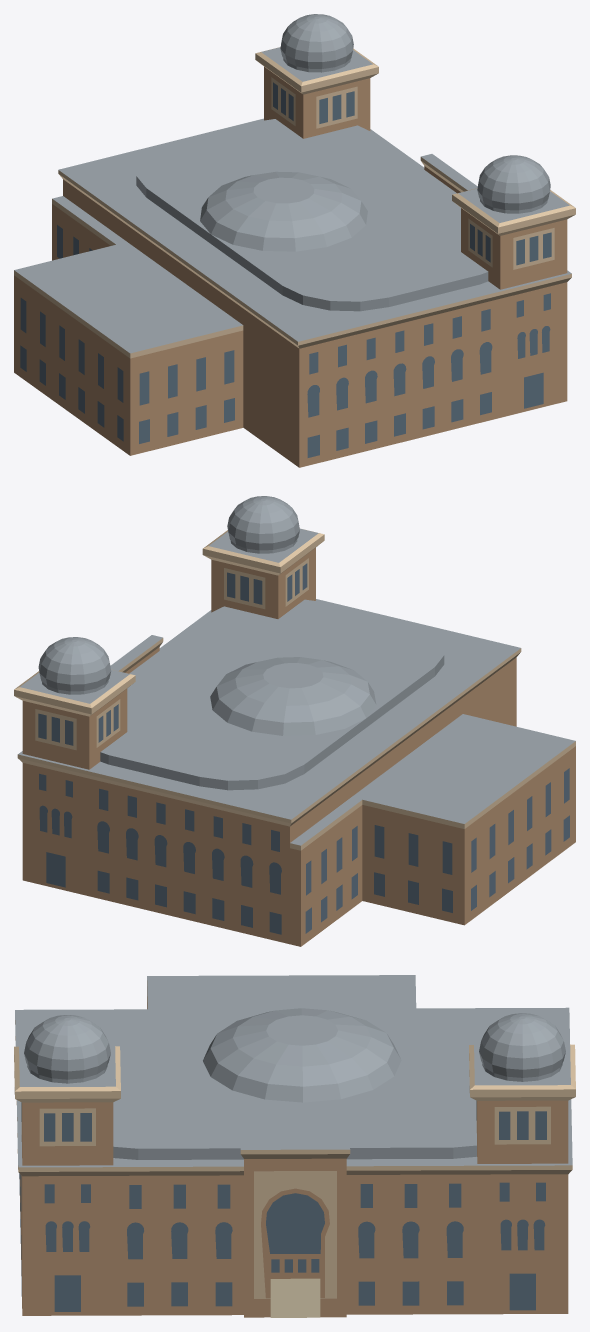
3 renders of one model, top to bottom at view 1: azimuth 30°, elevation 25°; view 2: azimuth 150°, elevation 25°; view 3: azimuth 270°, elevation 25°, orthographic. The views are drawn at different scales.
Parts seen in each view (by area): view 1: medinah-temple; view 2: medinah-temple; view 3: medinah-temple.
Boxes of the visible parts, x1=… form: medinah-temple: x1=14, y1=14, x2=575, y2=467; medinah-temple: x1=14, y1=496, x2=575, y2=946; medinah-temple: x1=14, y1=975, x2=575, y2=1317.
Bounding box in the file's own units: 63.93 × 36.9 × 67.81.
